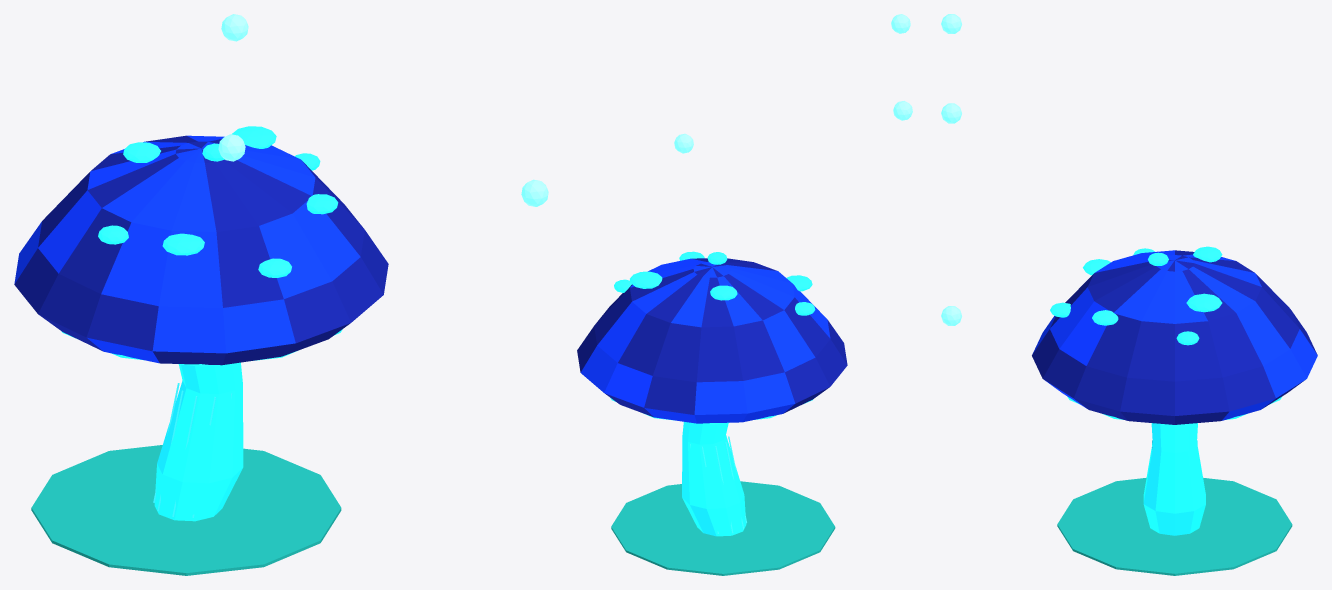
The model's file is forest_mushroom_small.glb.
3 views of the same model, side by side, from view 1: azimuth 30°, elevation 25°; view 2: azimuth 150°, elevation 25°; view 3: azimuth 270°, elevation 25° (orthographic). The views are drawn at different scales.
Parts seen in each view (by area): view 1: Broad faceted mushroom cap.002, Mushroom cyan ground bounce.002, Curving luminous mushroom stem.002, Bioluminescent cap spot.016, Bioluminescent cap spot.020; view 2: Broad faceted mushroom cap.002, Mushroom cyan ground bounce.002, Curving luminous mushroom stem.002, Bioluminescent cap spot.020; view 3: Broad faceted mushroom cap.002, Mushroom cyan ground bounce.002, Curving luminous mushroom stem.002, Bioluminescent cap spot.020.
Part boxes in pixels (x1=…): Broad faceted mushroom cap.002: x1=14, y1=135, x2=388, y2=365; Mushroom cyan ground bounce.002: x1=31, y1=445, x2=341, y2=575; Curving luminous mushroom stem.002: x1=154, y1=362, x2=243, y2=521; Bioluminescent cap spot.016: x1=162, y1=233, x2=204, y2=255; Bioluminescent cap spot.020: x1=232, y1=126, x2=276, y2=148; Broad faceted mushroom cap.002: x1=577, y1=258, x2=847, y2=423; Mushroom cyan ground bounce.002: x1=611, y1=481, x2=835, y2=575; Curving luminous mushroom stem.002: x1=682, y1=422, x2=746, y2=536; Bioluminescent cap spot.020: x1=630, y1=271, x2=662, y2=288; Broad faceted mushroom cap.002: x1=1032, y1=250, x2=1317, y2=424; Mushroom cyan ground bounce.002: x1=1057, y1=477, x2=1292, y2=575; Curving luminous mushroom stem.002: x1=1143, y1=423, x2=1205, y2=535; Bioluminescent cap spot.020: x1=1186, y1=293, x2=1222, y2=312.
Size of the model in its own units: 0.5383 by 0.898 by 0.6416.
